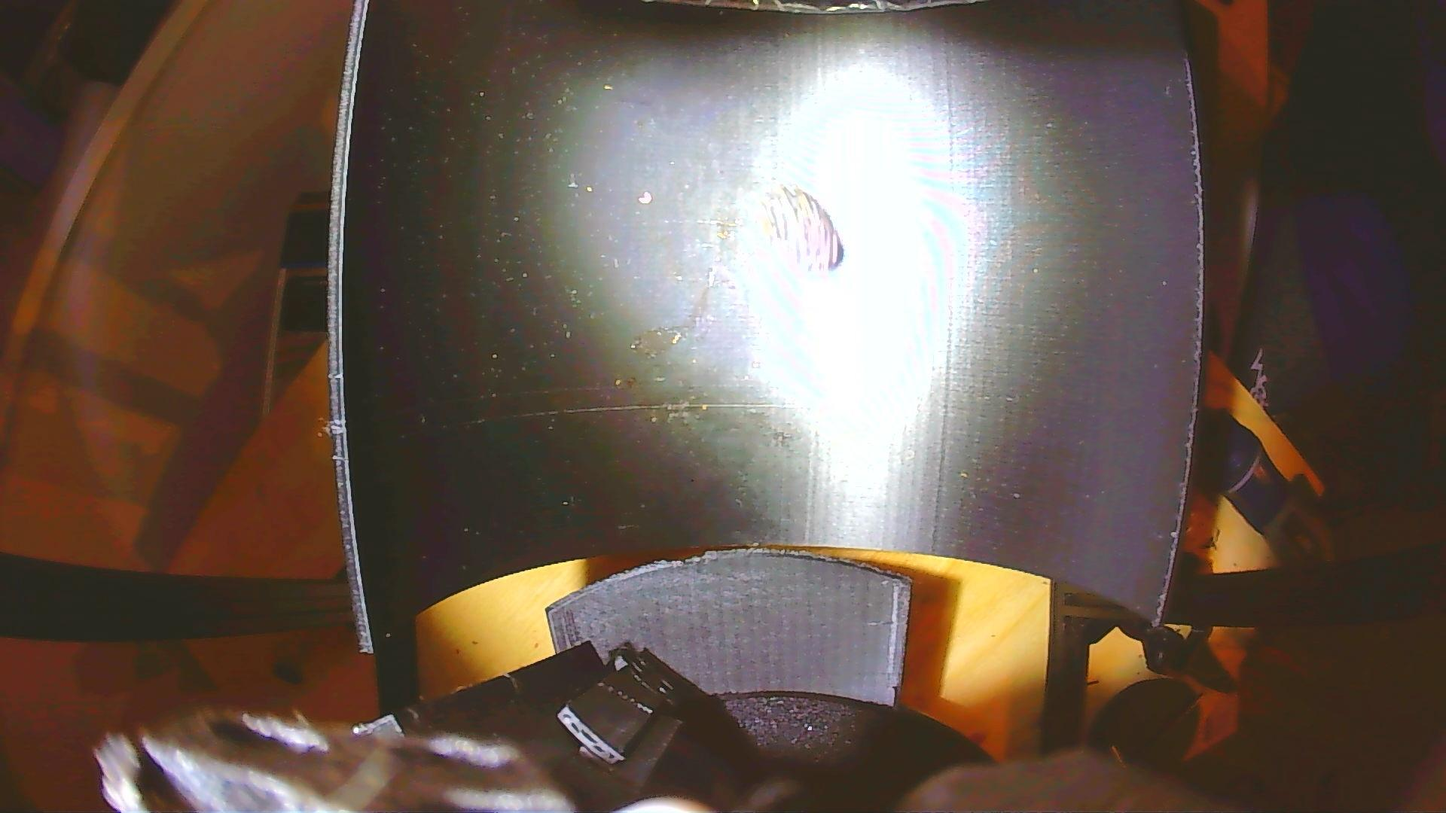berry: (759, 185, 844, 275)
